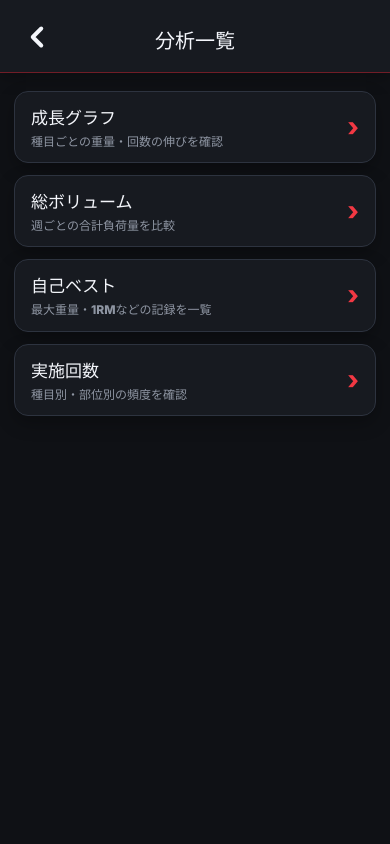
Scenario: AnalysisScreen › 詳細ページのヘッダに「成長グラフ」を表示する
The image size is (390, 844).
Click the button "成長グラフ 種目ごとの重量・回数の伸びを確認".
click(74, 118)  # box [14,91,376,163]
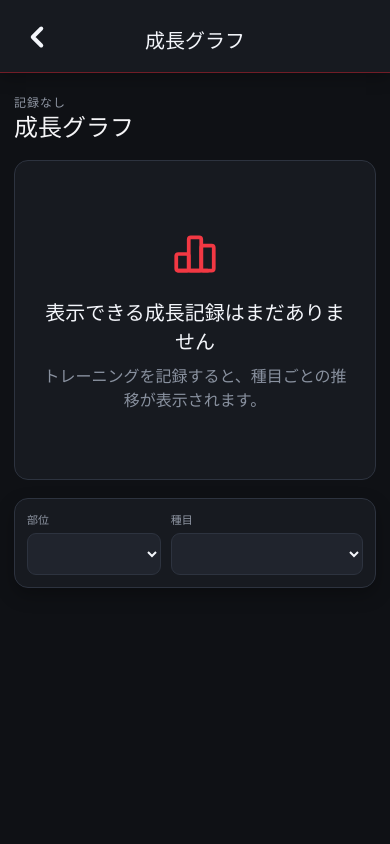
Check: the text "成長グラフ" is shown, box [145,28,245,52]
